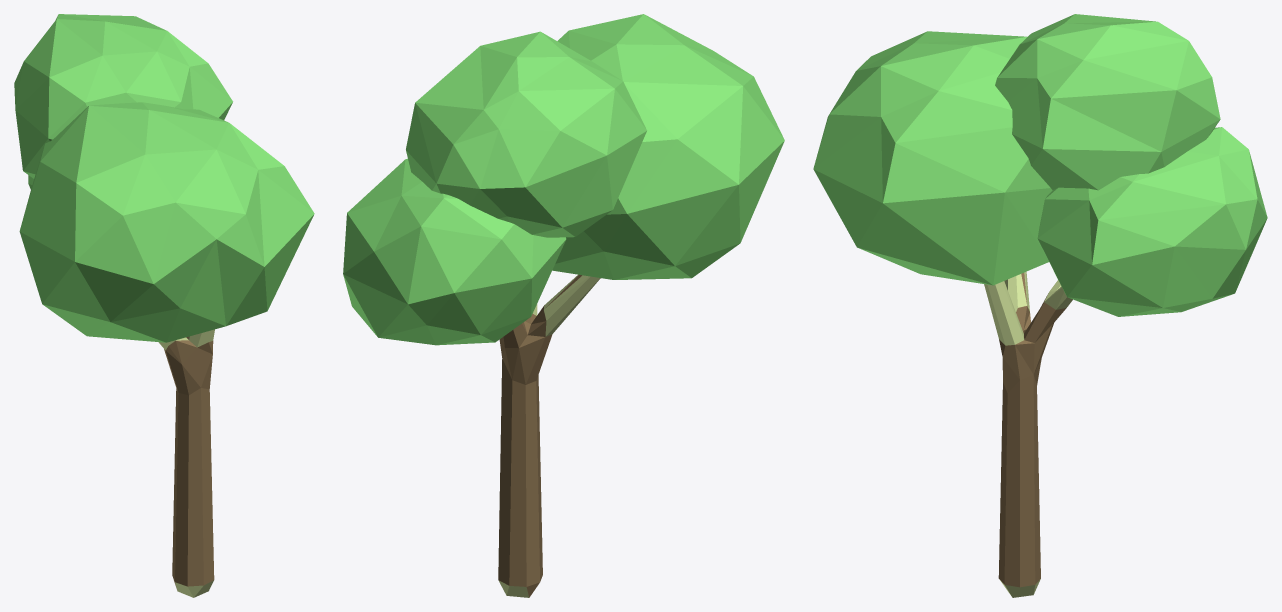
Rendered from VRTreebawah.fbx.
3 views of the same model, side by side, from view 1: azimuth 30°, elevation 25°; view 2: azimuth 150°, elevation 25°; view 3: azimuth 270°, elevation 25° (orthographic). The views are drawn at different scales.
Visible parts, largest first — view 1: Treebawah; view 2: Treebawah; view 3: Treebawah.
Part boxes in pixels (x1,y1,x2,y2): Treebawah: [14, 14, 314, 597]; Treebawah: [343, 14, 784, 597]; Treebawah: [813, 14, 1267, 597].
Size of the model in its own units: 344 by 641 by 479.
